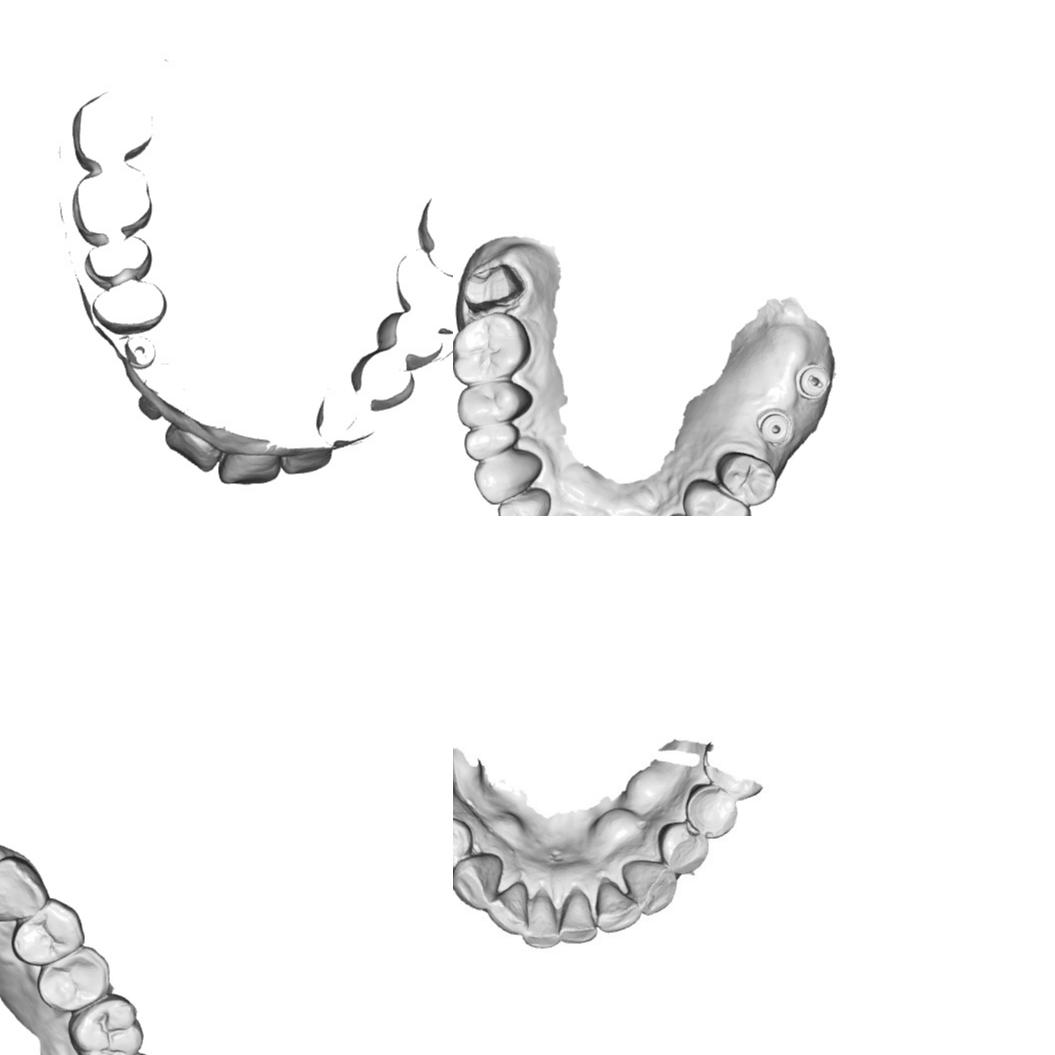canine: (471, 448, 545, 507), (0, 854, 49, 923), (620, 857, 677, 916), (453, 852, 507, 910)
crown: (456, 261, 527, 316)
implant: (755, 408, 794, 446)
implant_minus: (793, 361, 832, 402)
incisor: (556, 889, 601, 947), (486, 887, 531, 938), (521, 889, 557, 950), (595, 883, 637, 935), (496, 488, 552, 516)
molar: (453, 311, 532, 384), (63, 994, 144, 1055)
premolar: (36, 944, 112, 1012), (12, 897, 83, 966), (455, 378, 536, 430), (714, 449, 779, 507), (680, 784, 741, 842), (654, 819, 711, 878), (462, 420, 522, 465), (681, 479, 752, 516), (453, 816, 474, 870)
